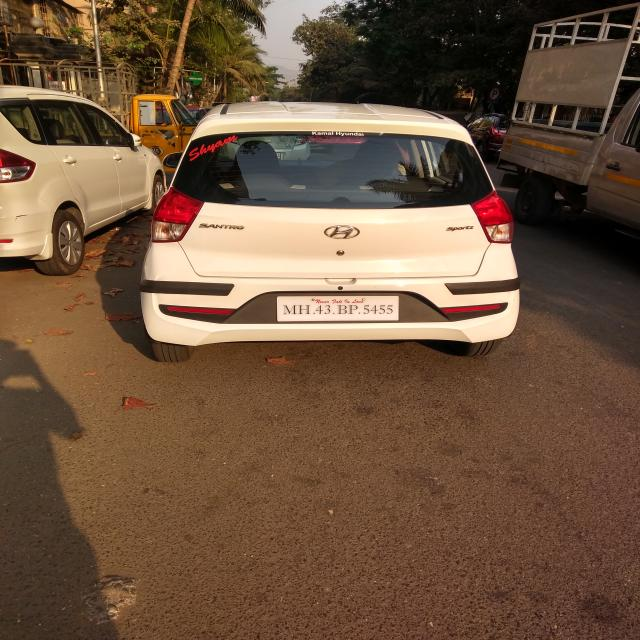Number-Plate: (282, 294, 396, 320)
